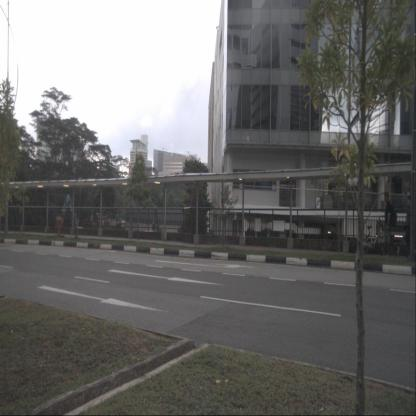human-pedestrian-adult: (381, 194, 399, 258), (404, 197, 414, 259)
vehicle-bicycle: (358, 218, 393, 255)
